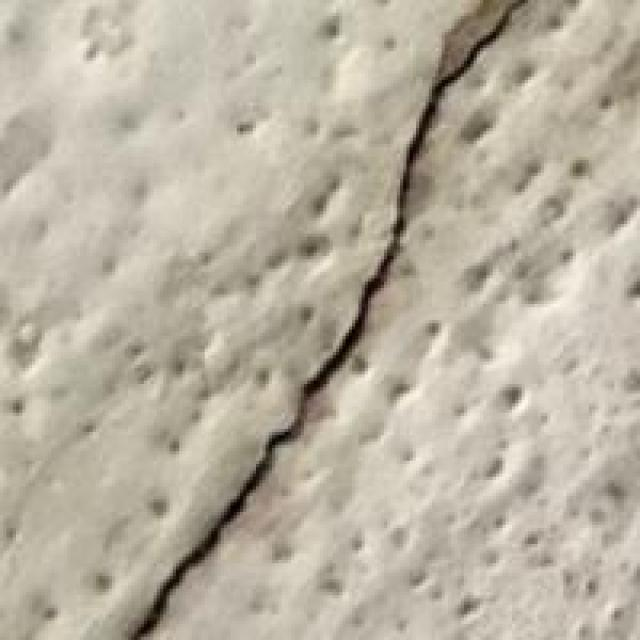Crack: (119, 0, 538, 637)
